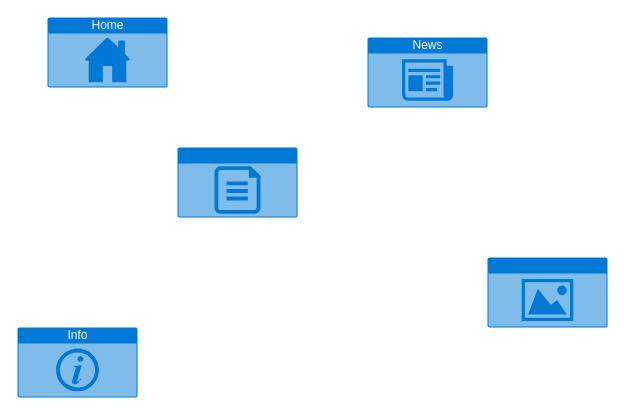
Image size: 624x414. Some labels were removed from this diagram. Each missing label, with the centre of its shape:
Photo: (547,292)
Text: (237,182)
